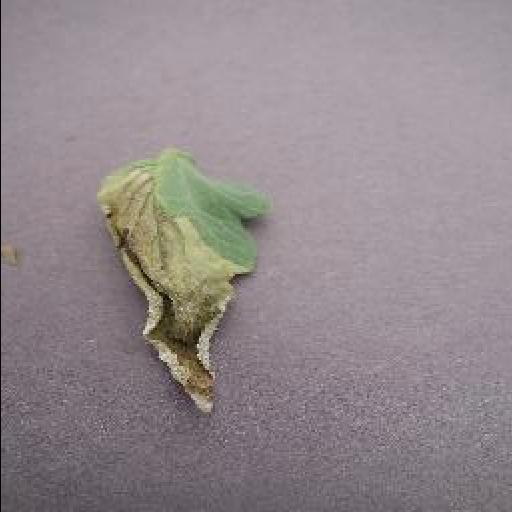disease_tomato: (94, 162, 262, 420)
